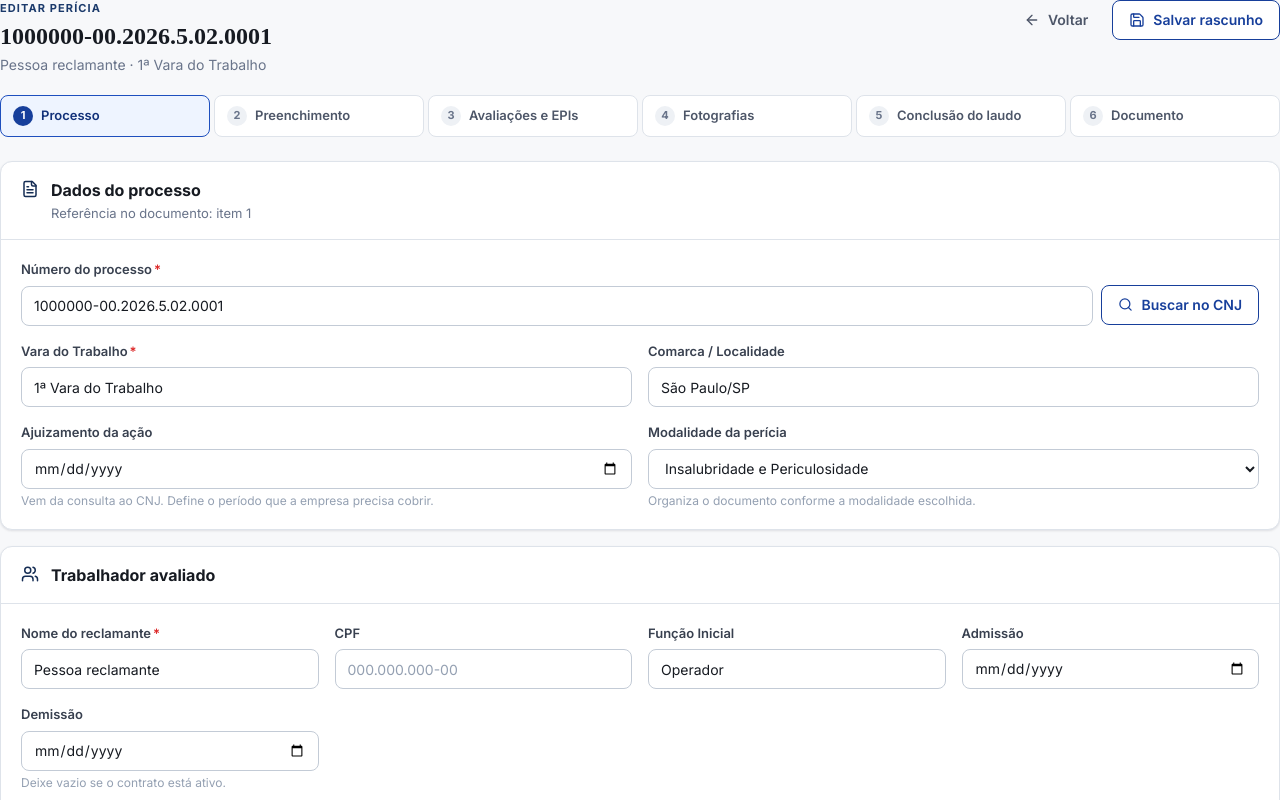
Scenario: PericiaEditor — fotos das medições por agente (Laudo e Parecer) › na etapa de fotografias, junta as fotos de agentes num grupo à parte
Click the button "4 Fotografias" at x=747, y=116, box [642,94,852,136]
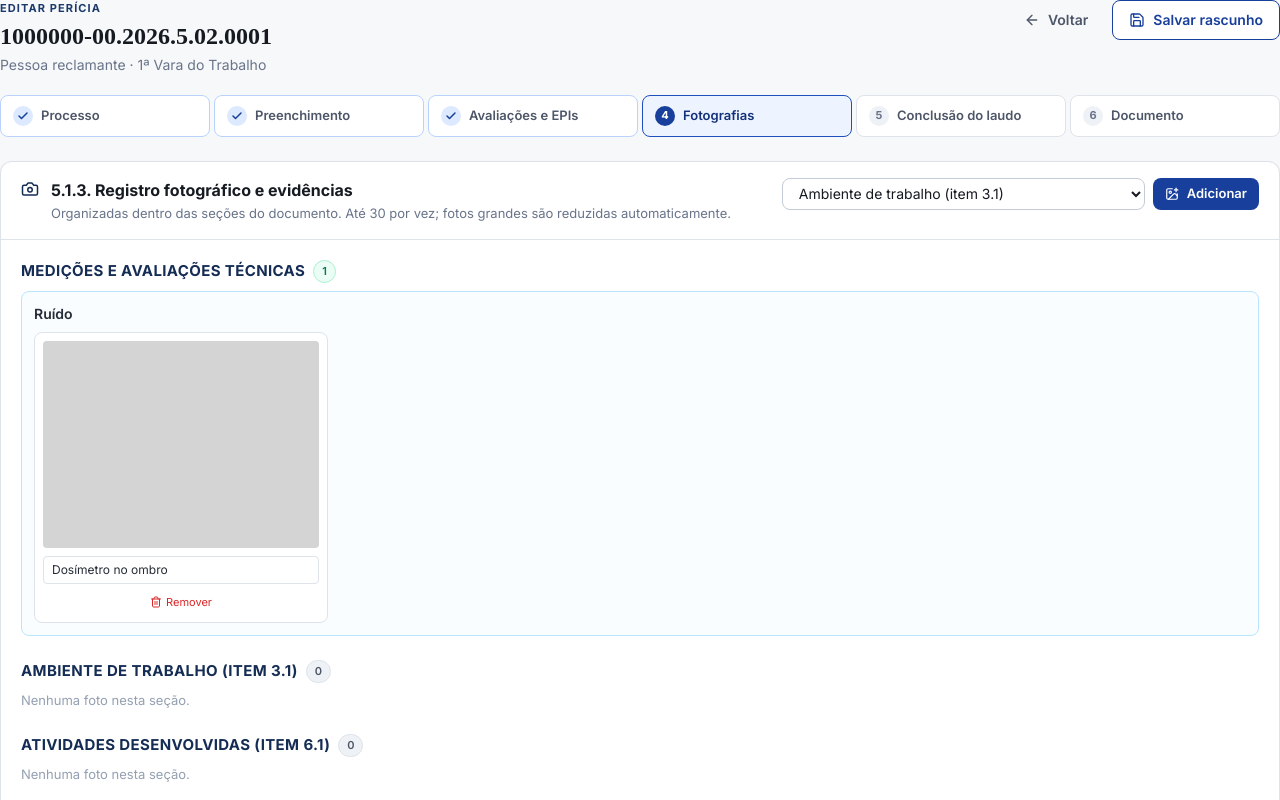
Now the heading "Medições e avaliações técnicas" is shown, box [21,260,305,282]
